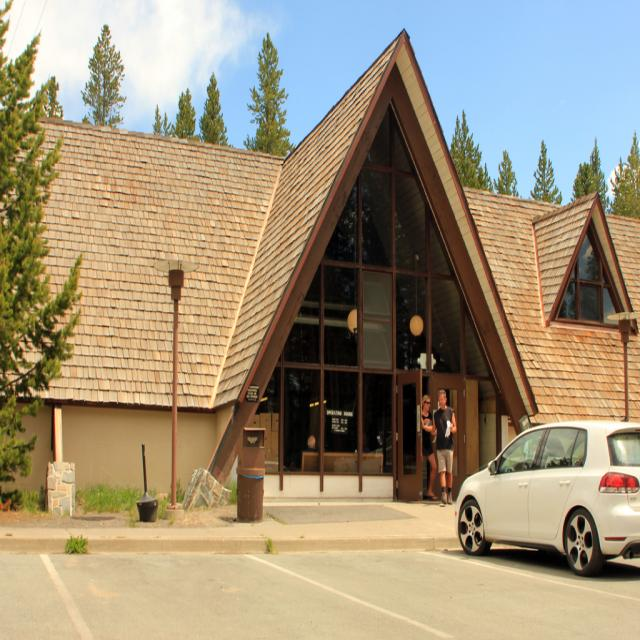other: (452, 416, 640, 578)
